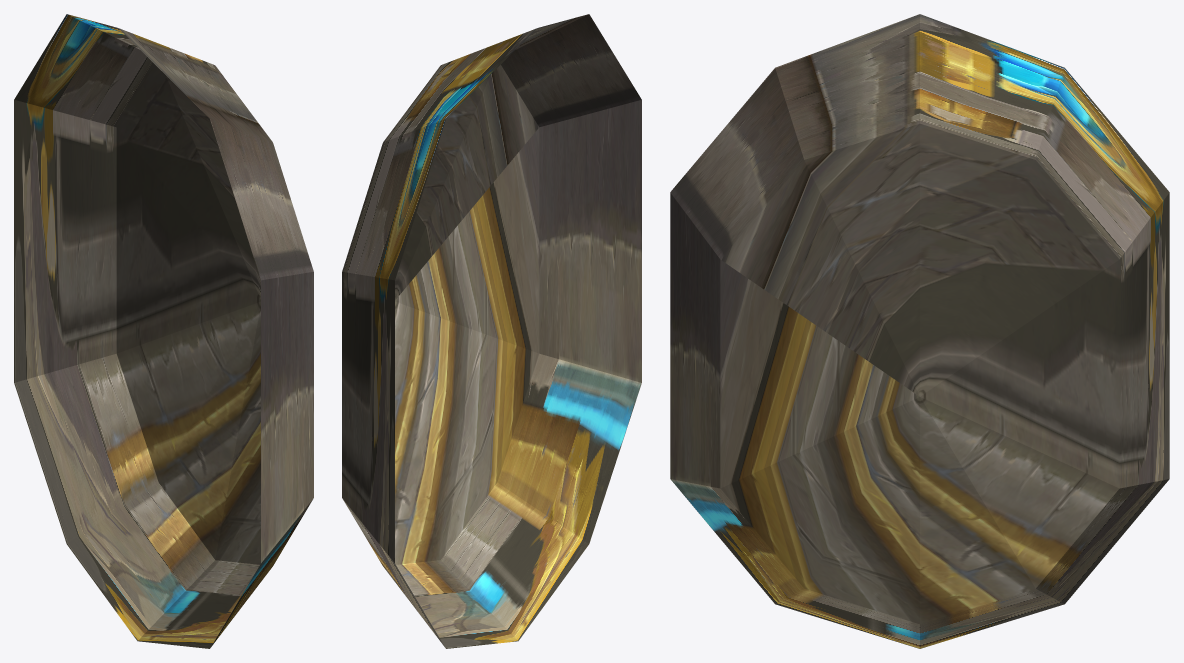
File: Shizhu_Baoshi.FBX
3 views of the same model, side by side, from view 1: azimuth 30°, elevation 25°; view 2: azimuth 150°, elevation 25°; view 3: azimuth 270°, elevation 25° (orthographic).
Visible parts, largest first — view 1: 对象002; view 2: 对象002; view 3: 对象002.
Boxes of the visible parts, x1,y1,x2,y2 form: 对象002: [14, 14, 313, 648]; 对象002: [342, 14, 641, 648]; 对象002: [670, 14, 1169, 648].
Bounding box in the file's own units: 51.89 × 214 × 155.
Materials: 1 (1 with a texture image).
